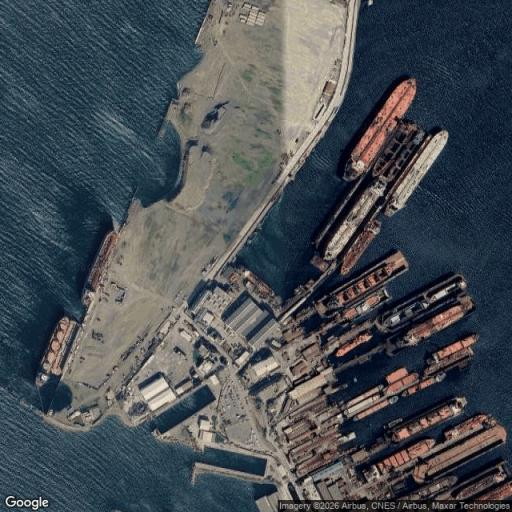ship: (344, 78, 416, 180), (316, 251, 408, 315), (413, 420, 506, 483), (384, 131, 447, 215), (324, 178, 386, 261), (379, 274, 467, 331), (398, 296, 475, 347), (386, 397, 467, 443), (372, 120, 424, 181), (365, 439, 435, 481), (36, 317, 77, 387), (443, 463, 507, 499), (424, 334, 478, 375), (340, 220, 380, 275), (338, 288, 392, 323), (87, 231, 118, 291), (399, 476, 456, 499), (444, 415, 496, 440), (352, 396, 398, 420), (402, 372, 445, 396), (384, 368, 419, 395), (344, 385, 385, 408), (336, 331, 371, 357), (343, 396, 380, 417), (476, 480, 511, 500), (384, 416, 407, 429)
